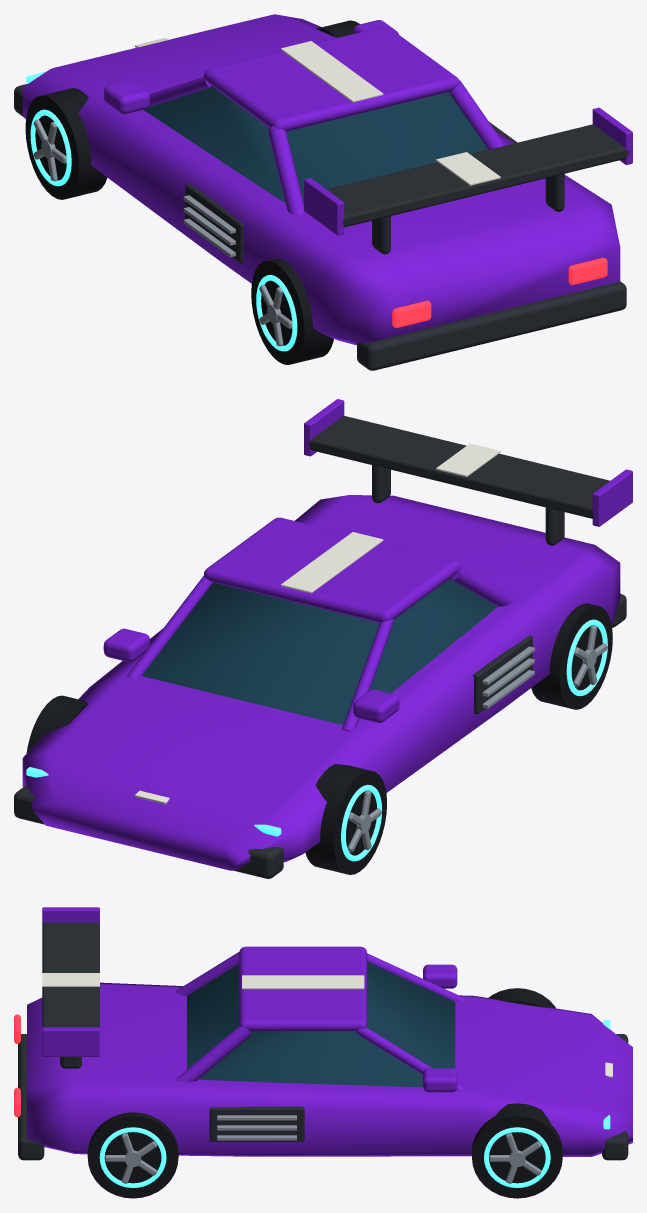
File: neon-supercar.glb
3 views of the same model, one above another, from view 1: azimuth 30°, elevation 25°; view 2: azimuth 150°, elevation 25°; view 3: azimuth 270°, elevation 25° (orthographic). The views are drawn at different scales.
Parts seen in each view (by area): view 1: WedgeBody, Windows, Roof, LargeRearWing, Tire (×2), RearBumper, C_Pillar (×2), WingEndplate (×2), RoofRacingStripe, Rim (×2), TailLight (×2), SideIntake (+4 smaller); view 2: WedgeBody, Windows, Roof, LargeRearWing, Tire (×3), A_Pillar (×2), WingEndplate (×2), RoofRacingStripe, Mirror (×2), Rim (×2), FrontBumper, SideIntake (+3 smaller); view 3: WedgeBody, Windows, Tire (×3), Roof, LargeRearWing, WingEndplate (×2), SideIntake, C_Pillar (×2), Rim (×2), RoofRacingStripe, A_Pillar (×2), Mirror (×2) (+4 smaller).
Part boxes in pixels (x1,y1,x2,y2): WedgeBody: (22,14,620,345); Windows: (143,85,488,202); Roof: (204,26,459,131); LargeRearWing: (327,124,629,227); Tire (×2): (25,88,333,364); RearBumper: (357,281,626,370); C_Pillar (×2): (268,80,504,215); WingEndplate (×2): (304,107,632,235); RoofRacingStripe: (281,41,383,102); Rim (×2): (30,109,297,351); TailLight (×2): (392,257,607,327); SideIntake: (185,183,243,263); WedgeBody: (22,495,620,870); Windows: (142,577,497,724); Roof: (204,517,459,622); LargeRearWing: (308,416,609,518); Tire (×3): (26,603,612,874); A_Pillar (×2): (126,575,393,731); WingEndplate (×2): (304,399,632,526); RoofRacingStripe: (281,532,383,593); Mirror (×2): (103,628,399,722); Rim (×2): (341,619,607,861); FrontBumper: (14,785,283,878); SideIntake: (473,635,532,714); WedgeBody: (27,982,632,1156); Windows: (187,962,455,1087); Tire (×3): (87,988,562,1198); Roof: (239,946,367,1031); LargeRearWing: (42,922,99,1027); WingEndplate (×2): (42,907,99,1056); SideIntake: (209,1106,304,1141); C_Pillar (×2): (175,952,251,1082); Rim (×2): (99,1127,550,1187); RoofRacingStripe: (242,975,364,989); A_Pillar (×2): (356,953,463,1090); Mirror (×2): (423,964,457,1092).
Bounding box in the file's own units: 2.29 × 1.33 × 4.5.
